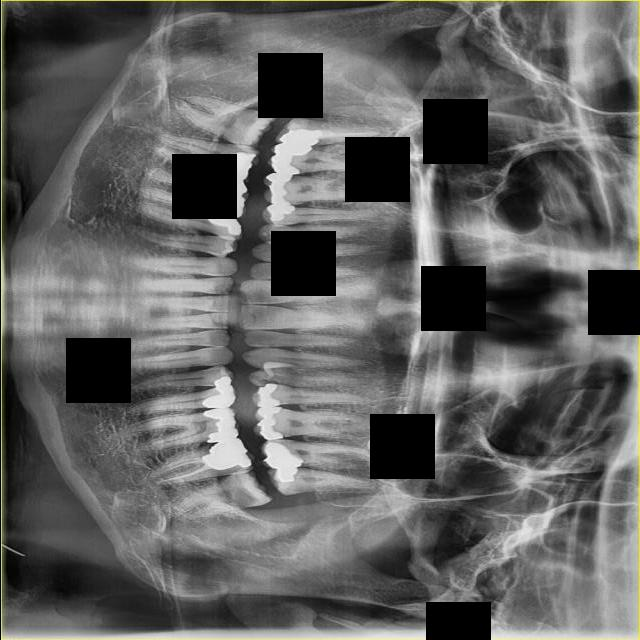74: (152, 452, 214, 485), (317, 124, 378, 140)
NucleOSS Implant: (258, 439, 305, 478), (201, 437, 252, 471), (202, 405, 239, 445), (271, 141, 311, 175), (215, 178, 249, 218), (206, 204, 245, 238), (221, 152, 257, 184), (199, 383, 237, 412), (255, 405, 283, 440), (265, 172, 292, 205), (280, 127, 318, 149), (265, 198, 297, 222), (253, 382, 280, 409), (274, 467, 298, 482), (212, 375, 231, 388)
Sterngold Implant: (238, 112, 263, 133), (197, 441, 220, 456), (255, 375, 281, 387), (288, 175, 310, 185), (194, 436, 211, 445), (223, 470, 238, 476), (228, 474, 241, 480), (298, 166, 307, 173), (280, 432, 289, 438), (278, 439, 288, 444), (263, 343, 275, 347)
Straumann Implant: (267, 231, 280, 241)
